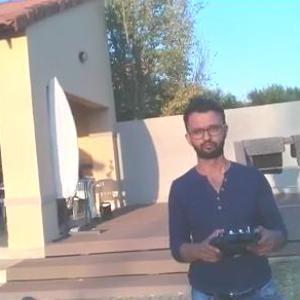follow: (157, 91, 289, 299)
